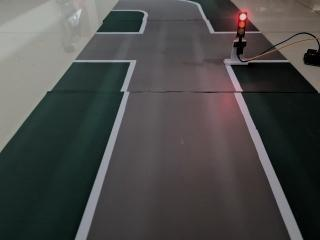red: (231, 4, 252, 52)
